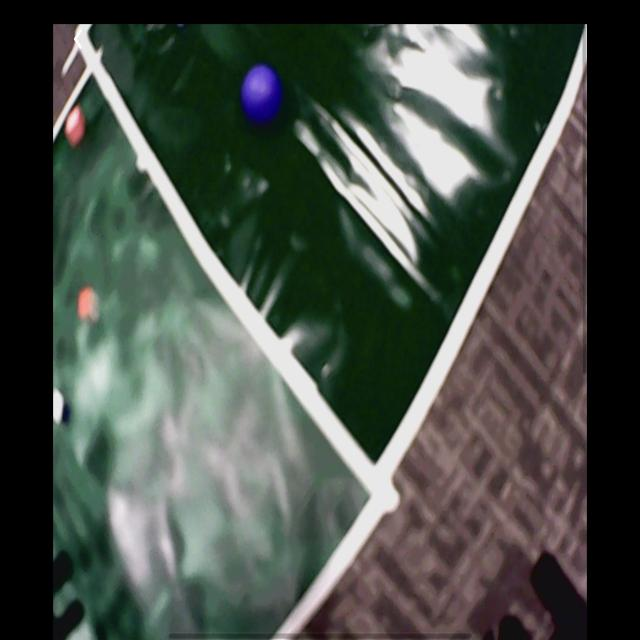ball: (245, 66, 283, 119)
